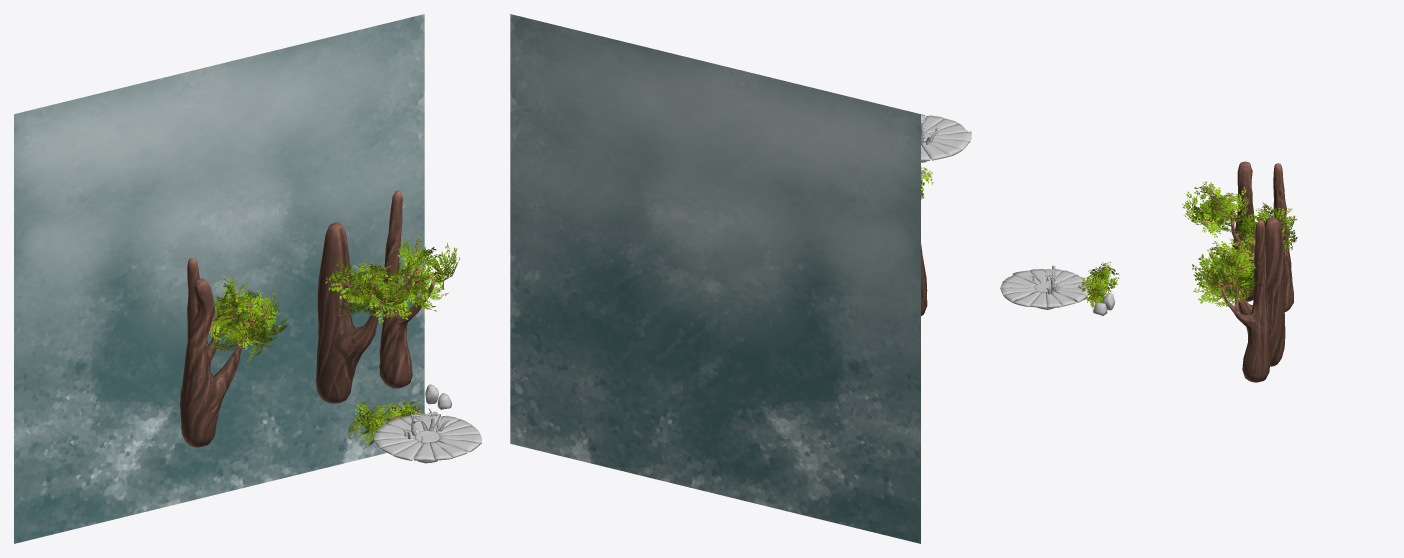
The model's file is enviroment.fbx.
The picture shows the model from 3 angles, left to right: view 1: azimuth 30°, elevation 25°; view 2: azimuth 150°, elevation 25°; view 3: azimuth 270°, elevation 25°; orthographic projection. The views are drawn at different scales.
Visible parts, largest first — view 1: Plane.002, Retopo_Plane.007, Retopo_Plane, Retopo_Plane.003, Env_leaves_02.001, Env_leaves_01.001, Env_leaves_01, Env_leaves_02, Retopo_Plane.001, Env_leaves_01.003; view 2: Plane.002; view 3: Retopo_Plane.003, Retopo_Plane.007, Env_leaves_02.001, Env_leaves_01, Retopo_Plane, Env_leaves_02, Env_leaves_01.001, Retopo_Plane.001, Env_leaves_01.002, Env_leaves_01.003.
Boxes of the visible parts, x1,y1,x2,y2 form: Plane.002: [14, 14, 424, 543]; Retopo_Plane.007: [316, 222, 395, 403]; Retopo_Plane: [180, 278, 257, 447]; Retopo_Plane.003: [379, 190, 434, 388]; Env_leaves_02.001: [386, 237, 459, 319]; Env_leaves_01.001: [325, 259, 412, 323]; Env_leaves_01: [204, 290, 290, 362]; Env_leaves_02: [209, 278, 279, 348]; Retopo_Plane.001: [180, 258, 234, 416]; Env_leaves_01.003: [347, 400, 391, 448]; Plane.002: [510, 14, 920, 543]; Retopo_Plane.003: [1221, 220, 1270, 382]; Retopo_Plane.007: [1227, 217, 1286, 366]; Env_leaves_02.001: [1192, 253, 1257, 306]; Env_leaves_01: [1182, 181, 1249, 237]; Retopo_Plane: [1230, 161, 1254, 301]; Env_leaves_02: [1235, 202, 1297, 251]; Env_leaves_01.001: [1197, 234, 1254, 289]; Retopo_Plane.001: [1273, 163, 1293, 312]; Env_leaves_01.002: [1078, 277, 1113, 314]; Env_leaves_01.003: [1085, 262, 1119, 289].
Size of the model in its own units: 5607 by 5607 by 5476.
